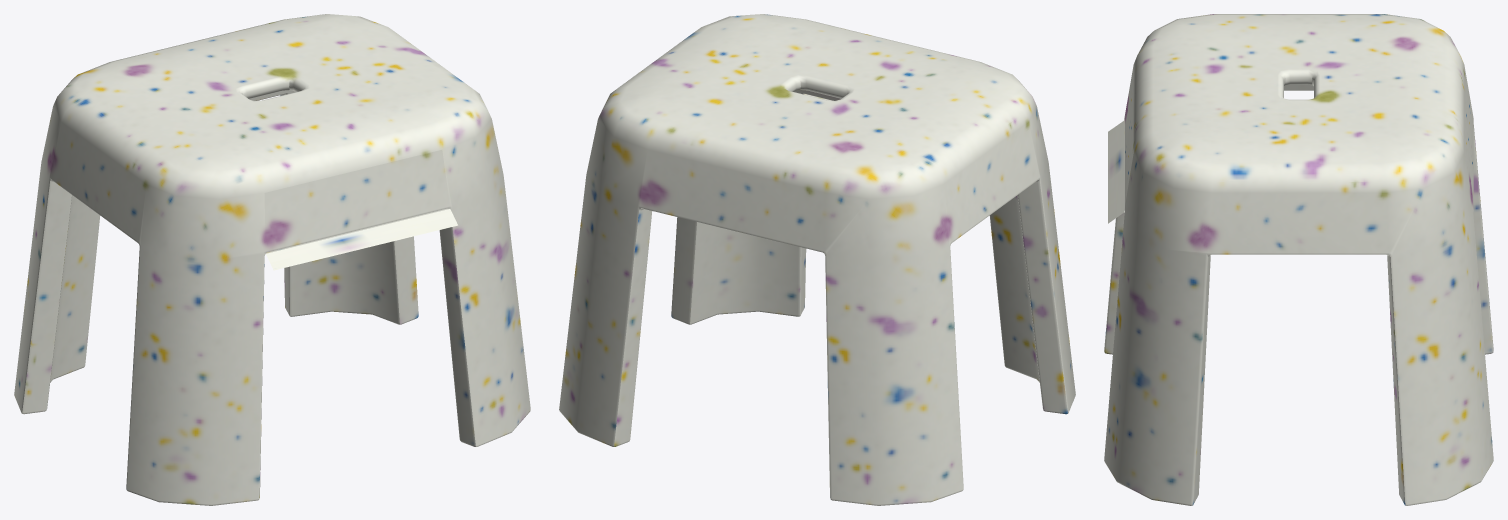
The model's file is Bath_chair.fbx.
3 renders of one model, left to right at view 1: azimuth 30°, elevation 25°; view 2: azimuth 150°, elevation 25°; view 3: azimuth 270°, elevation 25°, orthographic. The views are drawn at different scales.
Parts seen in each view (by area): view 1: Bath_chair2; view 2: Bath_chair2; view 3: Bath_chair2.
Part boxes in pixels (bbox=[...]): Bath_chair2: bbox=[14, 14, 530, 505]; Bath_chair2: bbox=[559, 14, 1075, 505]; Bath_chair2: bbox=[1104, 14, 1493, 505].
Size of the model in its own units: 2.3 by 1.76 by 1.92.
1 material, 1 textured.
